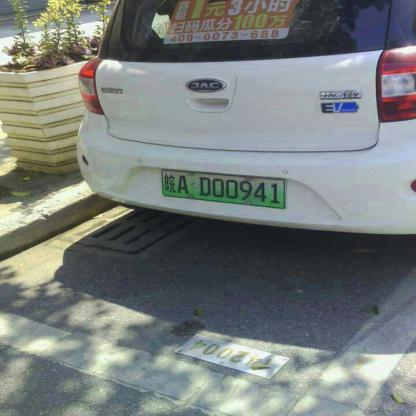lp: (161, 169, 284, 207)
